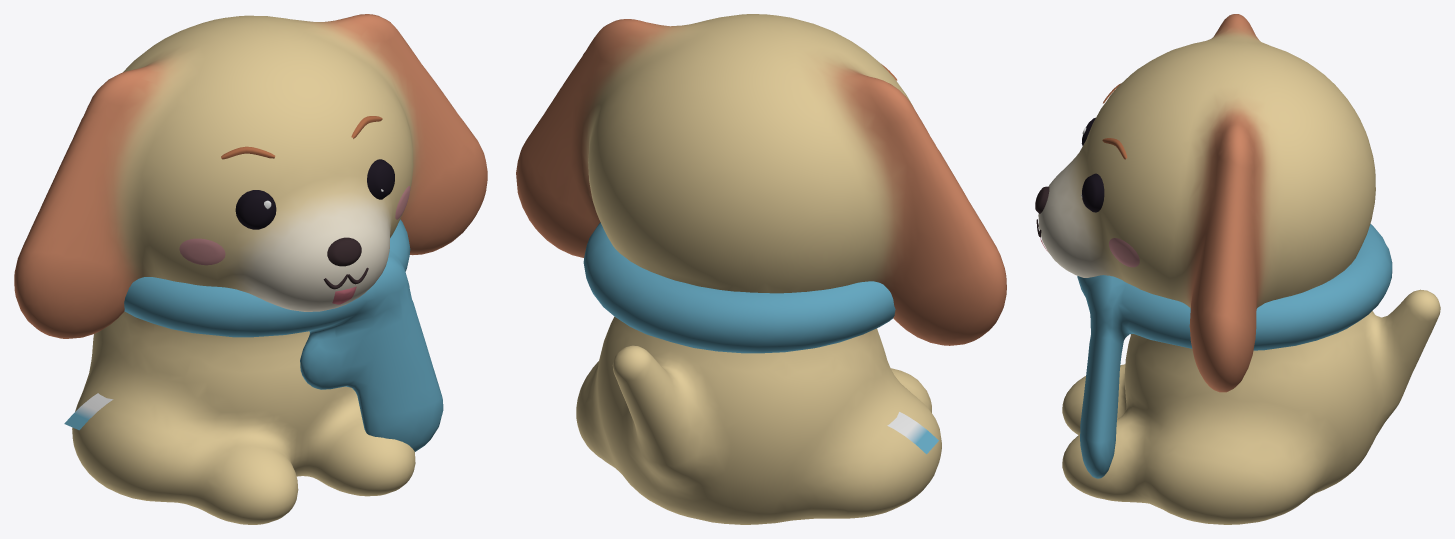
The model's file is scarfpuppy.glb.
3 renders of one model, left to right at view 1: azimuth 30°, elevation 25°; view 2: azimuth 150°, elevation 25°; view 3: azimuth 270°, elevation 25°, orthographic. The views are drawn at different scales.
Parts seen in each view (by area): view 1: LOD0; view 2: LOD0; view 3: LOD0.
Part boxes in pixels (bbox=[...]): LOD0: bbox=[14, 14, 487, 524]; LOD0: bbox=[516, 14, 1006, 524]; LOD0: bbox=[1035, 14, 1440, 524].
Size of what is drawn, in the model's own units: 0.2191 by 0.195 by 0.1719.
